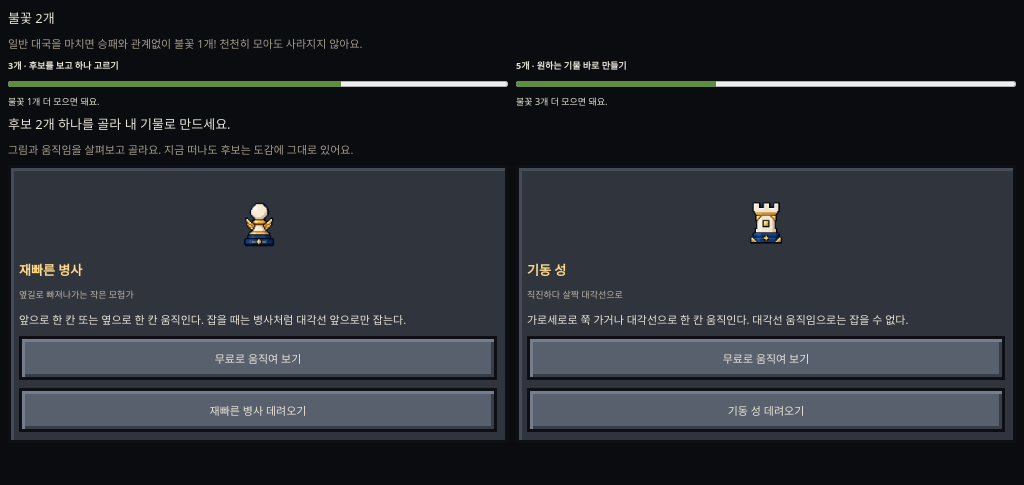
Test: understandable upgrade discovery › preserves an offer and does not celebrate when a write fails, then retries explicitly
The width and height of the screenshot is (1024, 485).
Step 1. Click the button with test id "progression-offer-piece.pawn-plus" → (258, 410), box [19,388,497,432]
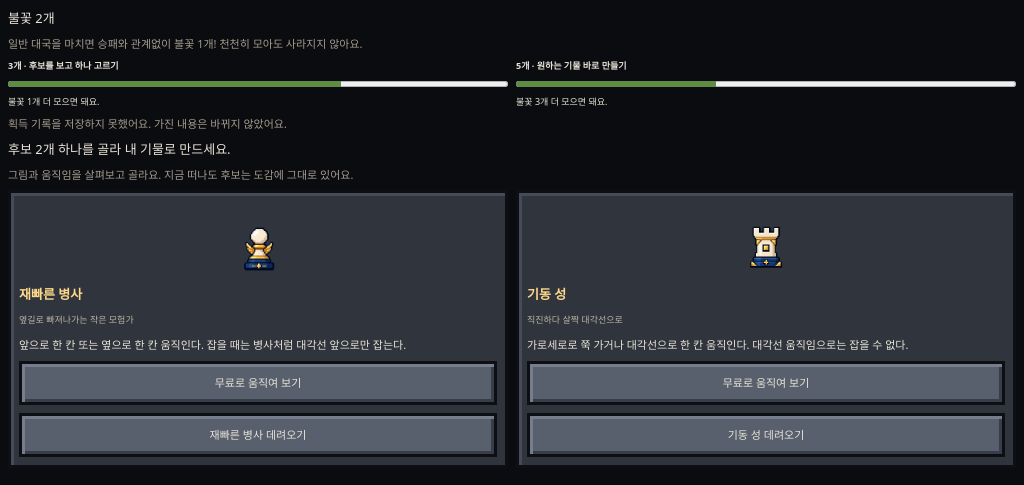
Result: the message "획득 기록을 저장하지 못했어요. 가진 내용은 바뀌지 않았어요." is shown at [8,116,287,131]
Step 2. Click the button with test id "progression-offer-piece.pawn-plus" → (258, 435), box [19,413,497,457]
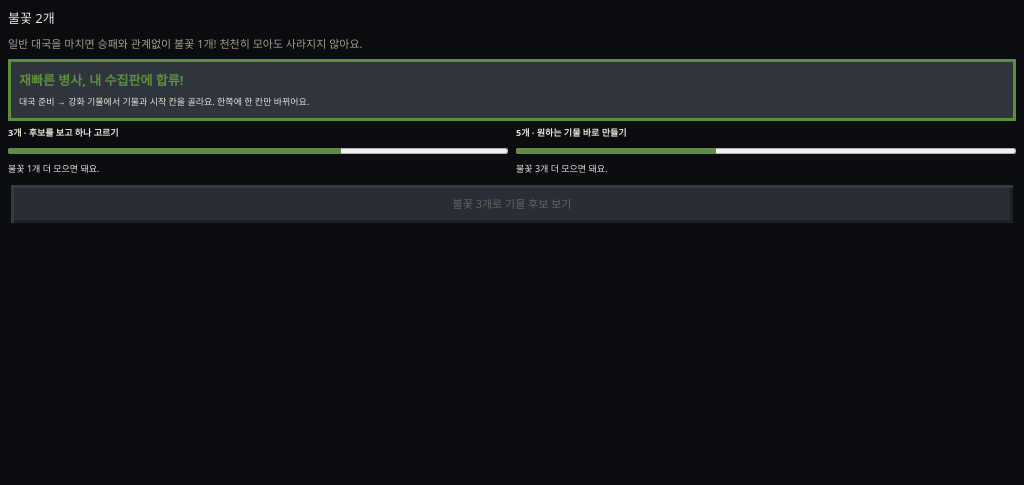
Result: the message "재빠른 병사, 내 수집판에 합류! 대국 준비 → 강화 기물에서 기물과 시작 칸을 골라요. 한쪽에 한 칸만 바뀌어요." is shown at [8,59,1016,121]
